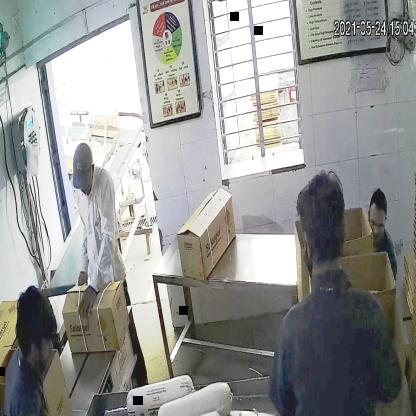goggles: (368, 214, 386, 236)
